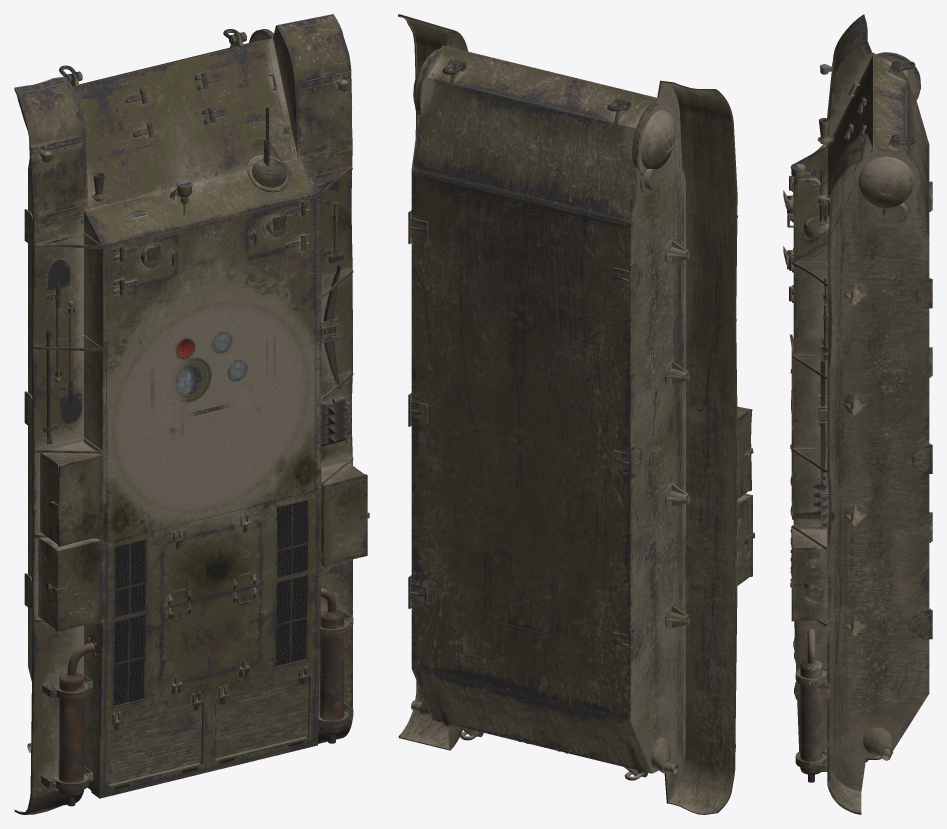
The model's file is Hull.glb.
The picture shows the model from 3 angles, left to right: view 1: azimuth 30°, elevation 25°; view 2: azimuth 150°, elevation 25°; view 3: azimuth 270°, elevation 25°; orthographic projection. The views are drawn at different scales.
Parts seen in each view (by area): view 1: set_0_group_0; view 2: set_0_group_0; view 3: set_0_group_0.
Part boxes in pixels (x1,y1,x2,y2): set_0_group_0: (14, 14, 369, 814); set_0_group_0: (398, 14, 754, 814); set_0_group_0: (783, 14, 932, 814).
Size of the model in its own units: 2.96 by 6.44 by 1.31.
1 material, 1 textured.
